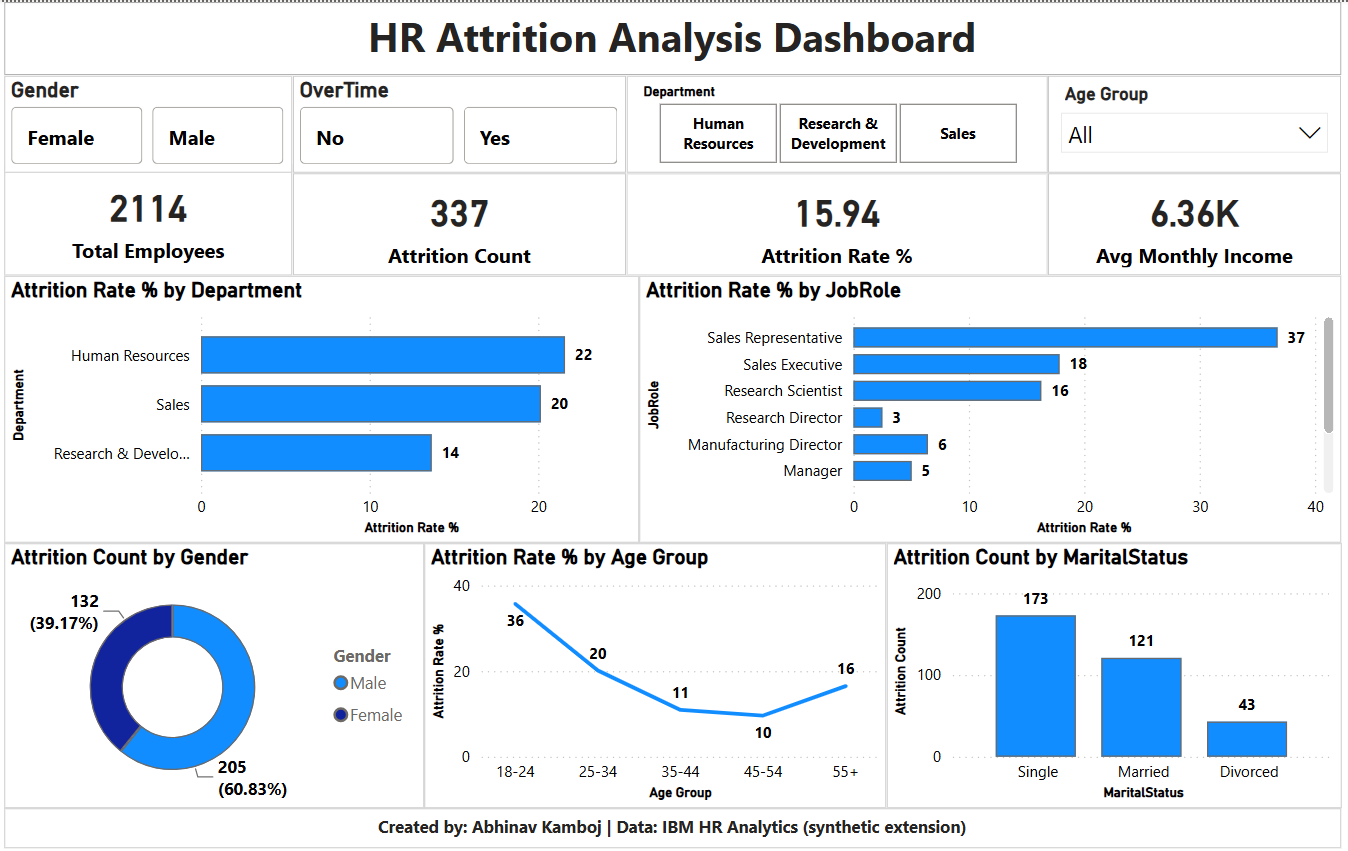

This screenshot's page, from the dashboard's own definition file:
{"tool":"powerbi","page":{"name":"Overview","canvas":[1280,720],"ordinal":0},"visuals":[{"type":"card","fields":{"Values":["hr_attrition.Total Employees"]},"box":[9,130,231,89],"z":0},{"type":"card","fields":{"Values":["hr_attrition.Attrition Count"]},"box":[240,137,267,82],"z":1000},{"type":"card","fields":{"Values":["hr_attrition.Attrition Rate %"]},"box":[507,137,337,82],"z":2000},{"type":"card","fields":{"Values":["hr_attrition.Avg Monthly Income"]},"box":[844,137,235,82],"z":3000},{"type":"clusteredBarChart","fields":{"Y":["hr_attrition.Attrition Rate %"],"Category":["hr_attrition.Department"]},"box":[9,219,508,214],"z":4000},{"type":"clusteredBarChart","fields":{"Category":["hr_attrition.JobRole"],"Y":["hr_attrition.Attrition Rate %"]},"box":[517,219,562,214],"z":5000},{"type":"donutChart","fields":{"Category":["hr_attrition.Gender"],"Y":["hr_attrition.Attrition Count"]},"box":[9,433,336,212],"z":6000},{"type":"lineChart","fields":{"Category":["hr_attrition.Age Group "],"Y":["hr_attrition.Attrition Rate %"]},"box":[345,433,370,212],"z":7000},{"type":"columnChart","fields":{"Y":["hr_attrition.Attrition Count"],"Category":["hr_attrition.MaritalStatus"]},"box":[715,433,364,212],"z":8000},{"type":"advancedSlicerVisual","fields":{"Values":["hr_attrition.Gender"]},"box":[9,59,231,78],"z":9000},{"type":"advancedSlicerVisual","fields":{"Values":["hr_attrition.OverTime"]},"box":[240,59,267,78],"z":10000},{"type":"slicer","fields":{"Values":["hr_attrition.Age Group "]},"box":[844,59,235,78],"z":11000},{"type":"textbox","box":[9,0,1070,59],"z":12000},{"type":"slicer","fields":{"Values":["hr_attrition.Department"]},"box":[507,59,337,78],"z":13000},{"type":"textbox","box":[9,645,1070,32],"z":14000}]}

Visuals, with their boxes on the page's 1280x720 design canvas (x1, y1, x2, y2). These are canvas units, not pixel positions in the 1348x851 screenshot, which may show the page scaled, cropped or inside an application window:
card - hr_attrition.Total Employees: bbox(9, 130, 240, 219)
card - hr_attrition.Attrition Count: bbox(240, 137, 507, 219)
card - hr_attrition.Attrition Rate %: bbox(507, 137, 844, 219)
card - hr_attrition.Avg Monthly Income: bbox(844, 137, 1079, 219)
clusteredBarChart - hr_attrition.Attrition Rate % x hr_attrition.Department: bbox(9, 219, 517, 433)
clusteredBarChart - hr_attrition.JobRole x hr_attrition.Attrition Rate %: bbox(517, 219, 1079, 433)
donutChart - hr_attrition.Gender x hr_attrition.Attrition Count: bbox(9, 433, 345, 645)
lineChart - hr_attrition.Age Group  x hr_attrition.Attrition Rate %: bbox(345, 433, 715, 645)
columnChart - hr_attrition.Attrition Count x hr_attrition.MaritalStatus: bbox(715, 433, 1079, 645)
advancedSlicerVisual - hr_attrition.Gender: bbox(9, 59, 240, 137)
advancedSlicerVisual - hr_attrition.OverTime: bbox(240, 59, 507, 137)
slicer - hr_attrition.Age Group : bbox(844, 59, 1079, 137)
textbox: bbox(9, 0, 1079, 59)
slicer - hr_attrition.Department: bbox(507, 59, 844, 137)
textbox: bbox(9, 645, 1079, 677)
